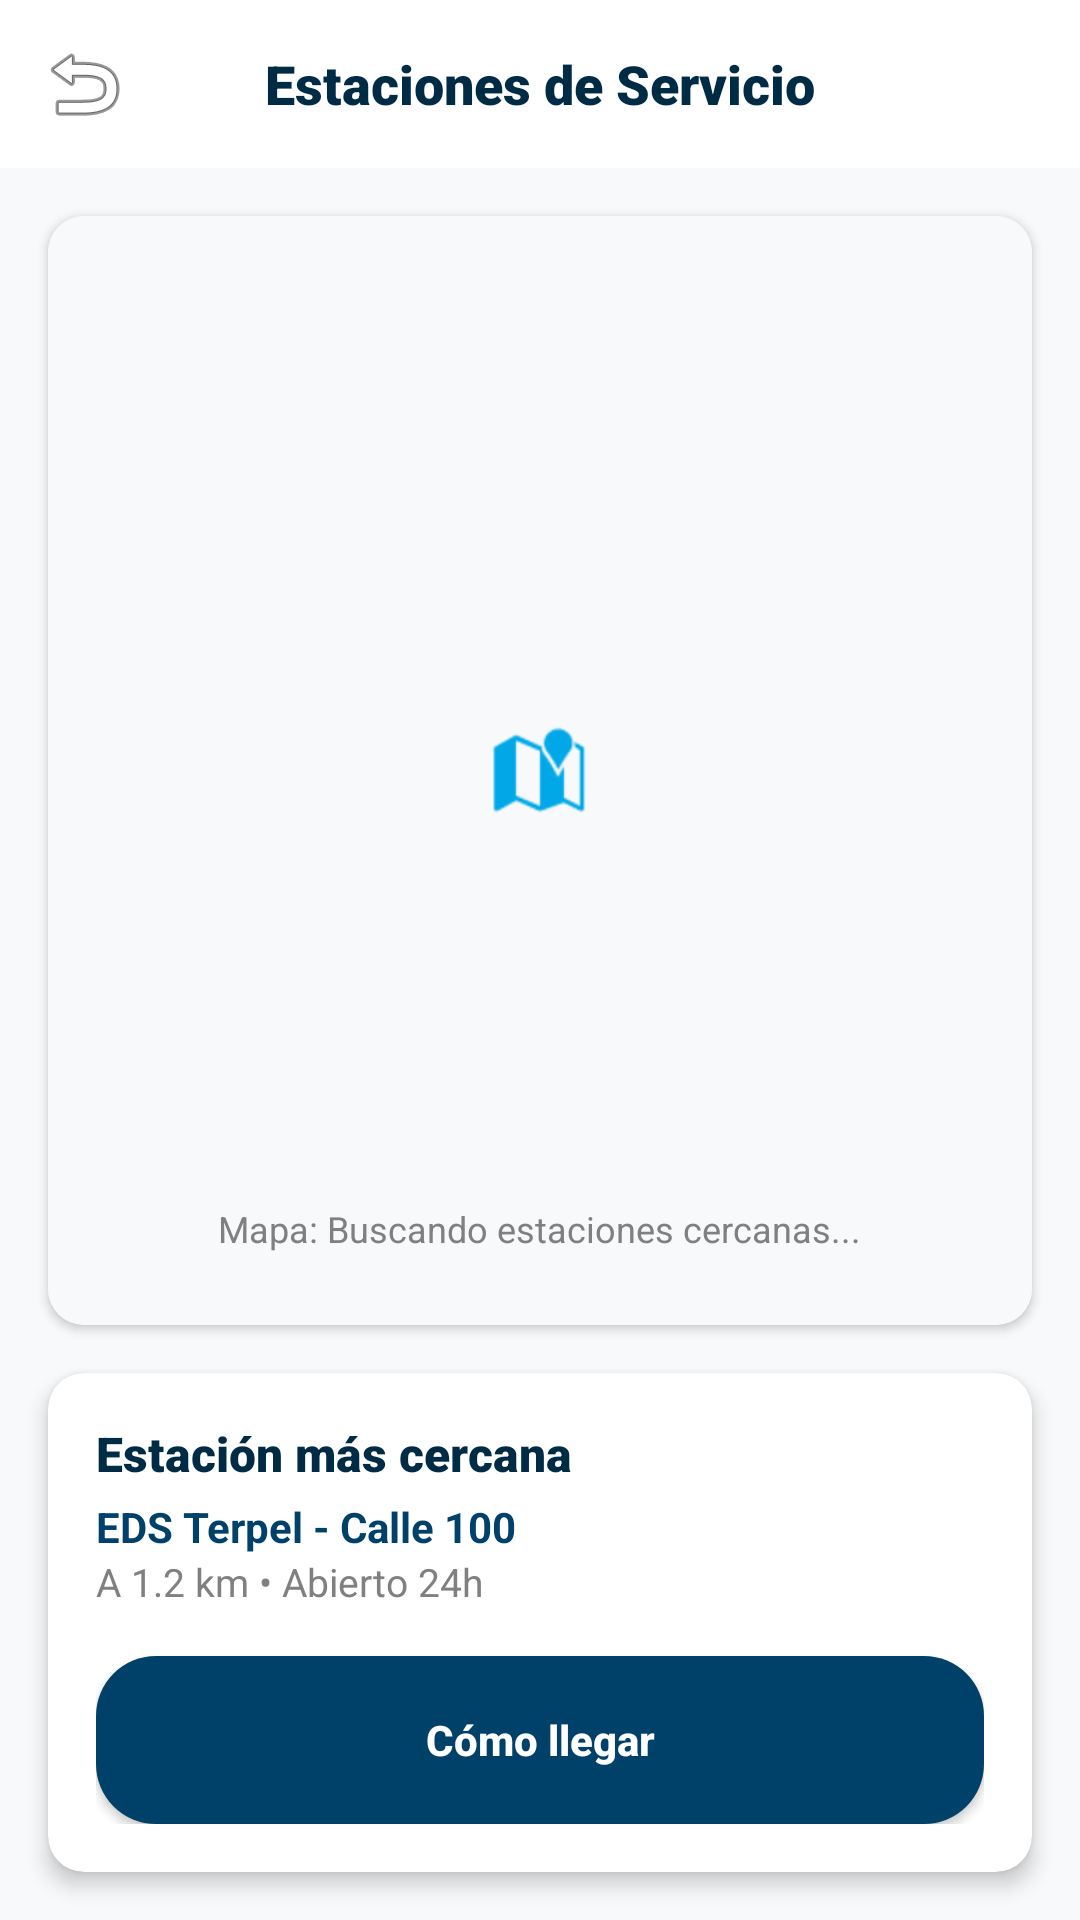

Icon bounding boxes for this 1080 × 1920 phone screenshot, format (x1, y1, x2, y2):
map: (493, 727, 585, 812)
